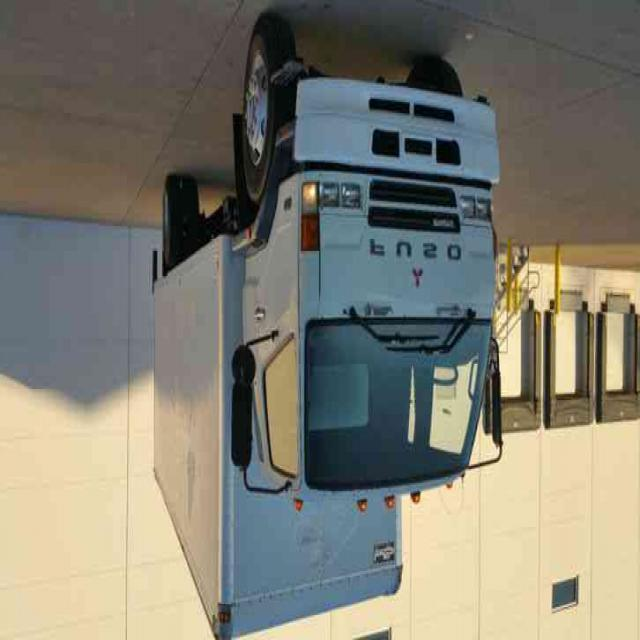truck: (152, 17, 500, 640)
